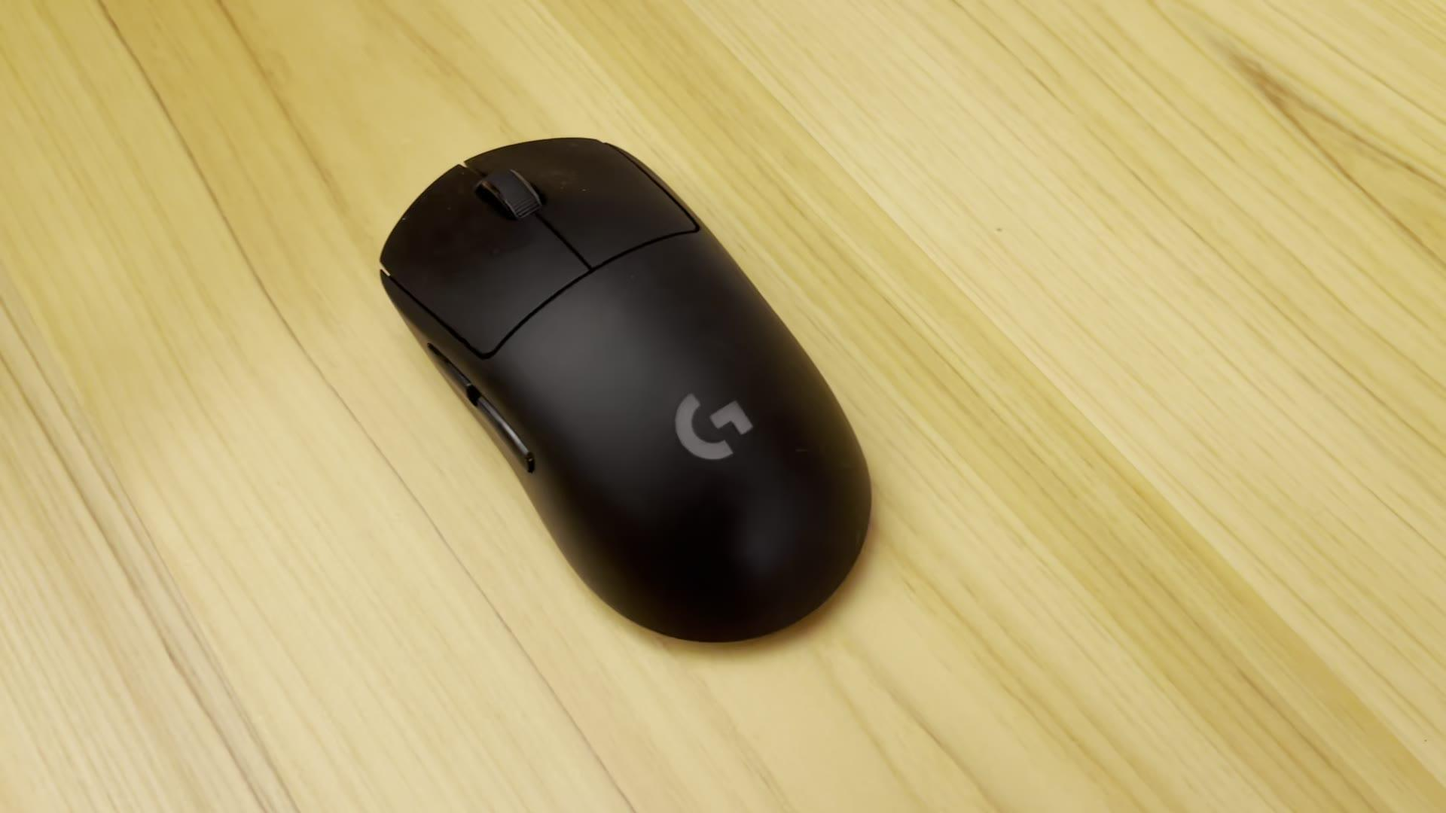logicool: (371, 126, 881, 657)
